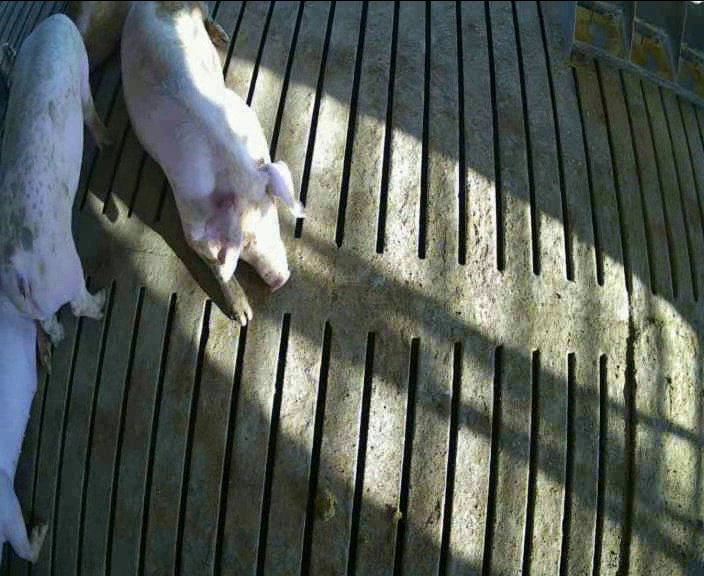pig: (121, 2, 302, 324), (0, 14, 110, 342)
